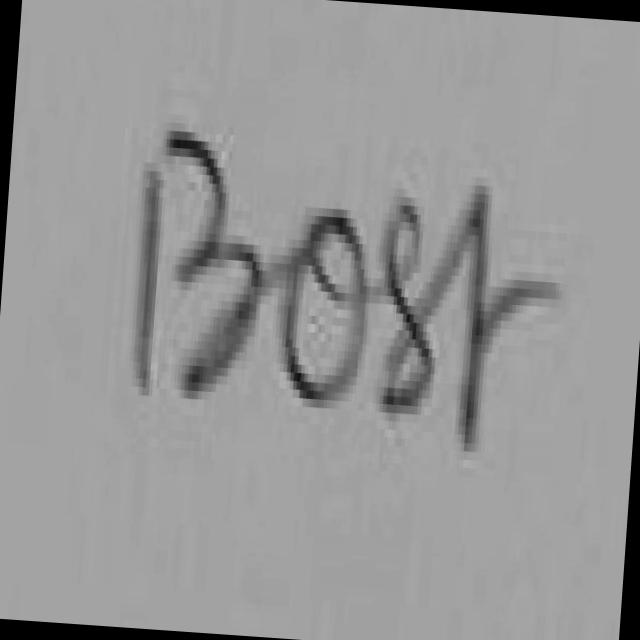B: (134, 123, 265, 398)
o: (287, 216, 367, 398)
s: (386, 205, 435, 402)
t: (464, 185, 562, 451)
